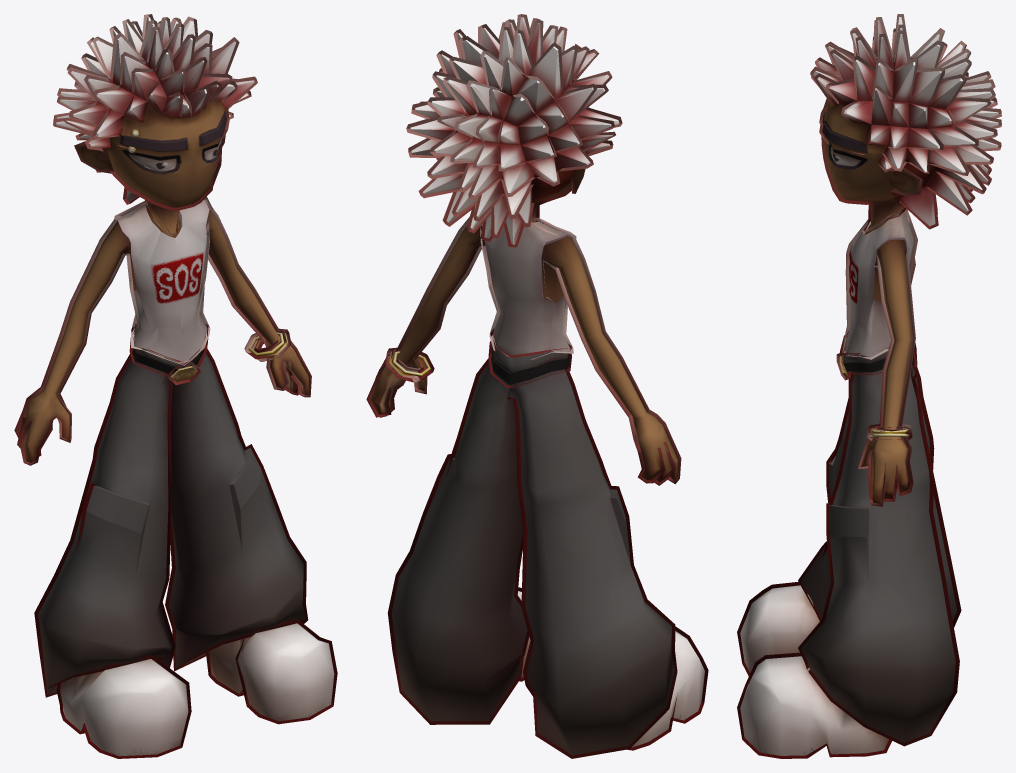
Rendered from cartoon_punk_guy.glb.
The picture shows the model from 3 angles, left to right: view 1: azimuth 30°, elevation 25°; view 2: azimuth 150°, elevation 25°; view 3: azimuth 270°, elevation 25°; orthographic projection. The views are drawn at different scales.
Parts seen in each view (by area): view 1: sm_BassGuy, sm_shadow; view 2: sm_BassGuy, sm_shadow; view 3: sm_BassGuy, sm_shadow.
Boxes of the visible parts, x1,y1,x2,y2 form: sm_BassGuy: (18, 17, 334, 756); sm_shadow: (14, 14, 337, 758); sm_BassGuy: (370, 17, 704, 755); sm_shadow: (366, 14, 708, 758); sm_BassGuy: (740, 17, 998, 755); sm_shadow: (737, 14, 1001, 758).
Bounding box in the file's own units: 0.0416 × 0.0918 × 0.0324.
2 materials, 2 textured.
